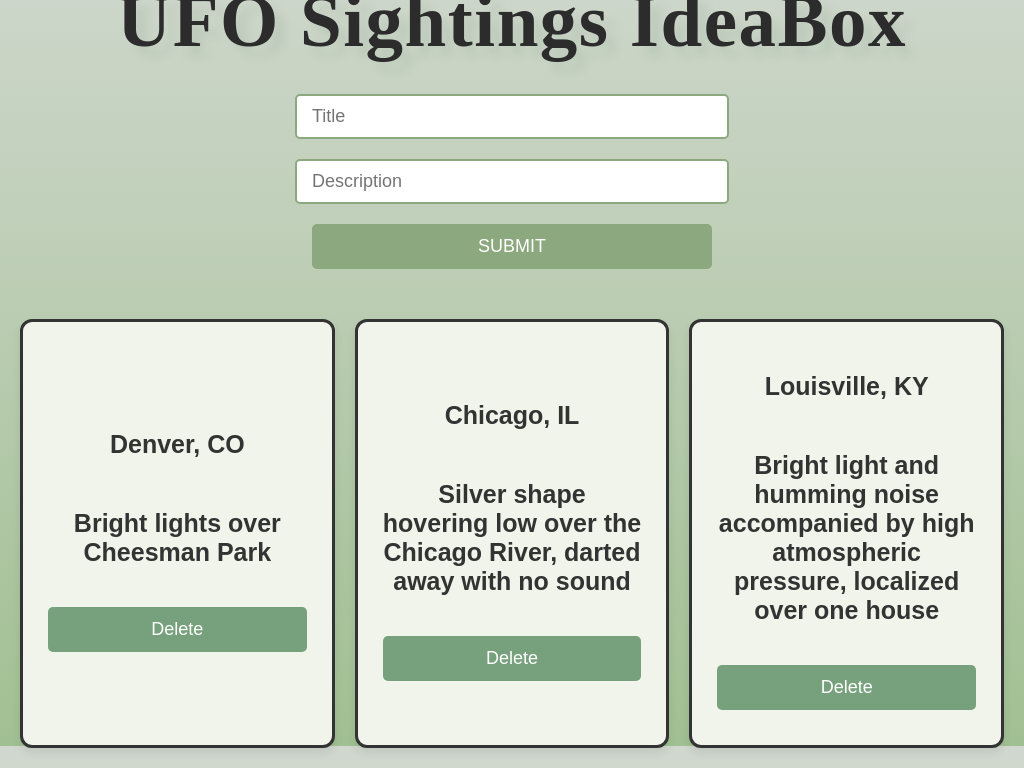
Test: Visit the homepage › should display homepage with sightings
(page scrolled)
Expected: the text "Bright lights over Cheesman Park" is shown, left=74, top=509, right=281, bottom=566
Expected: the button "Delete" below "Bright lights over Cheesman Park" is shown, left=48, top=607, right=307, bottom=652
Click the button "Delete" below "Louisville, KY" at (847, 688), box left=717, top=665, right=976, bottom=710
(page scrolled)
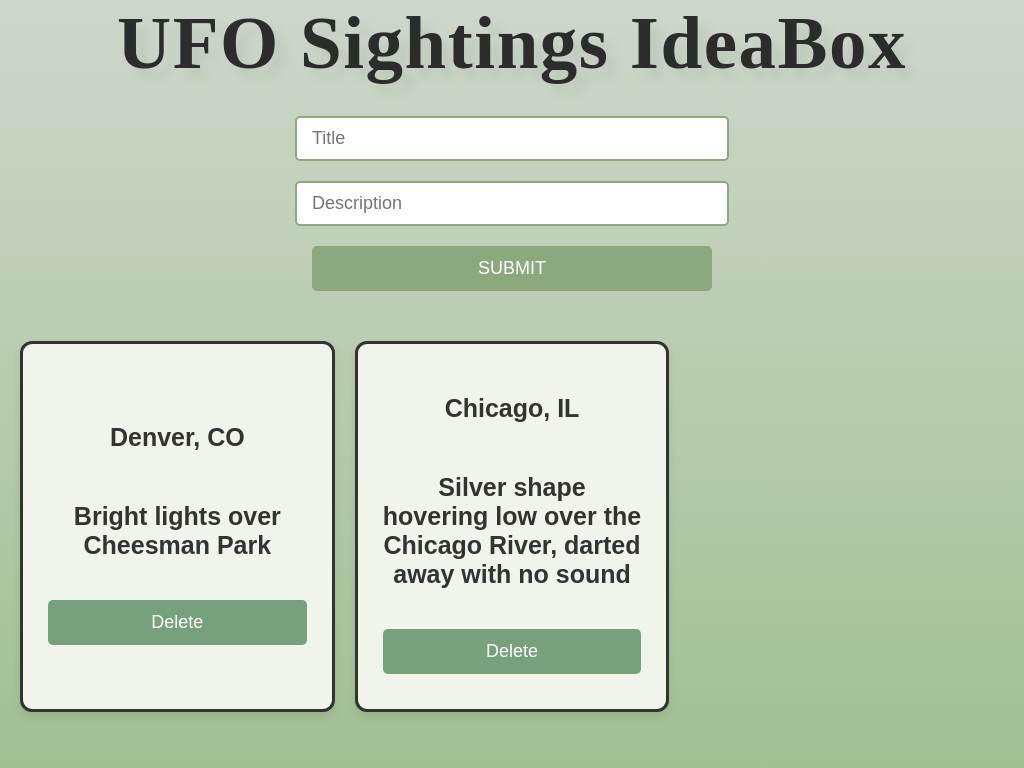
Click the button "SUBMIT" at (512, 269), box left=312, top=246, right=712, bottom=291
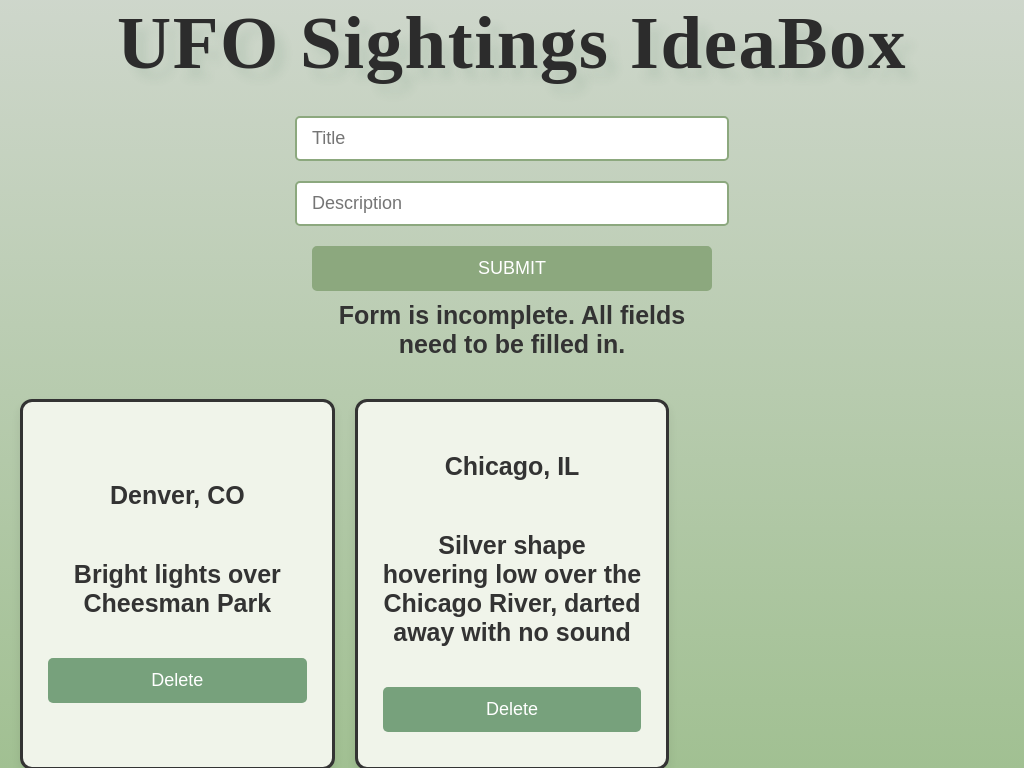
Expected: the text "Form is incomplete. All fields need to be filled in." is shown, left=312, top=301, right=712, bottom=359
Type "Littleton, CO" into the field with placeholder "Title" at (512, 139), box left=295, top=116, right=729, bottom=161
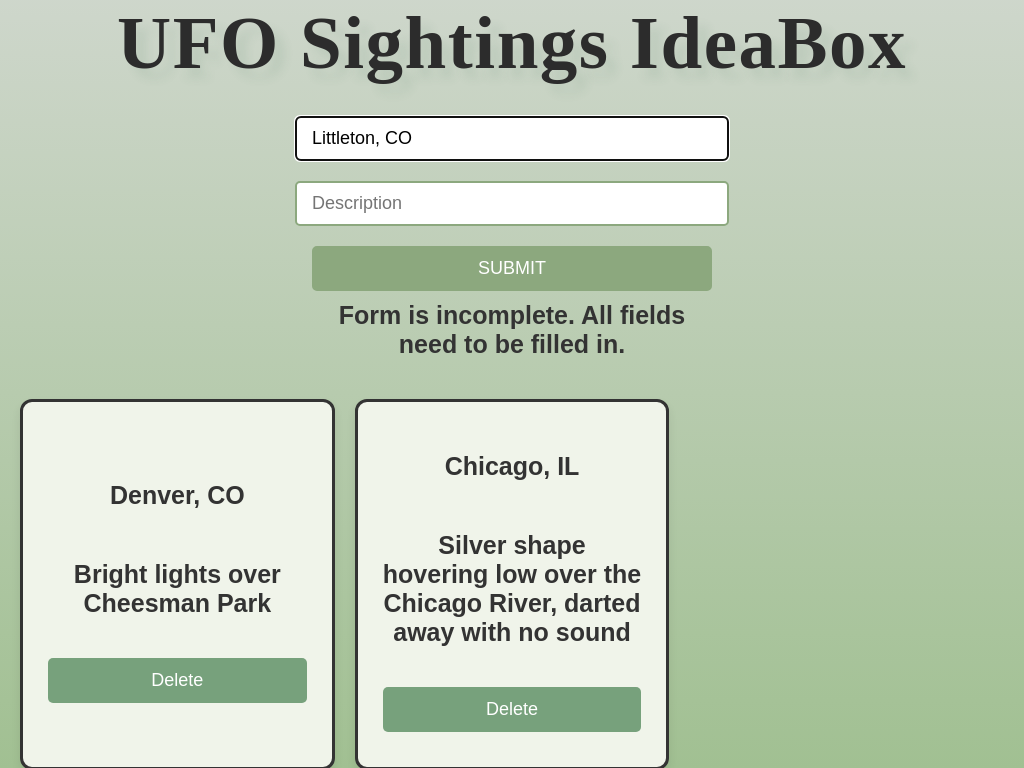
Type "I see a cute little moon" into the field with placeholder "Description" at (512, 204), box left=295, top=181, right=729, bottom=226
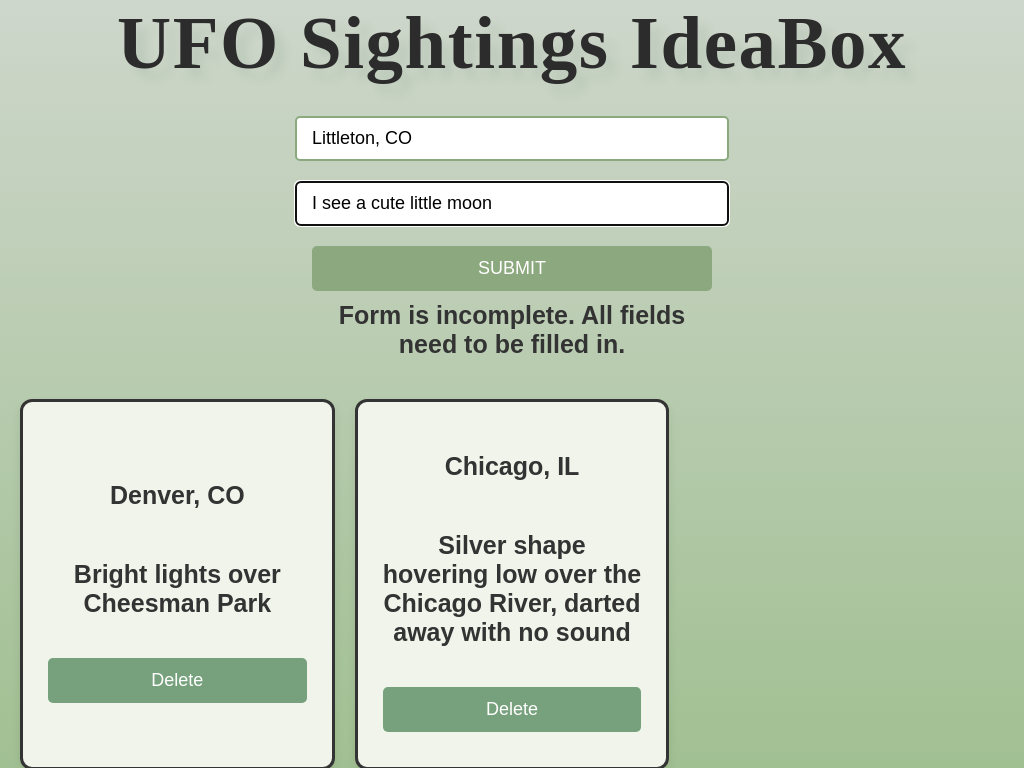
Click the button "SUBMIT" at (512, 269), box left=312, top=246, right=712, bottom=291
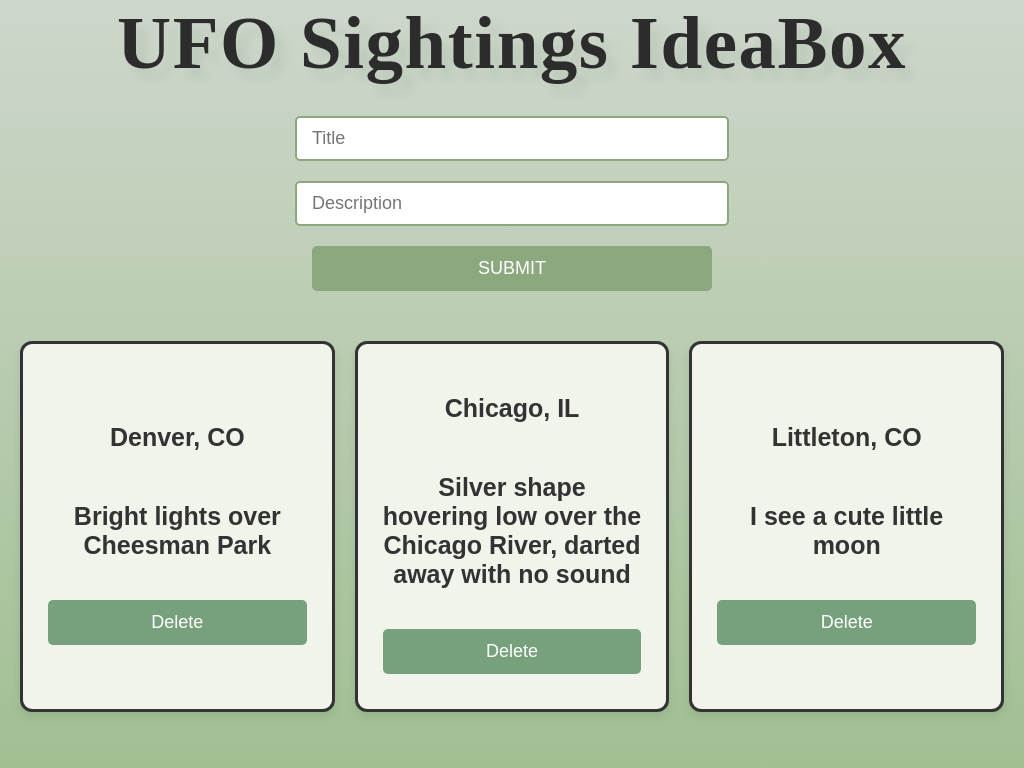
Expected: the text "I see a cute little moon" is shown, left=750, top=502, right=943, bottom=559
